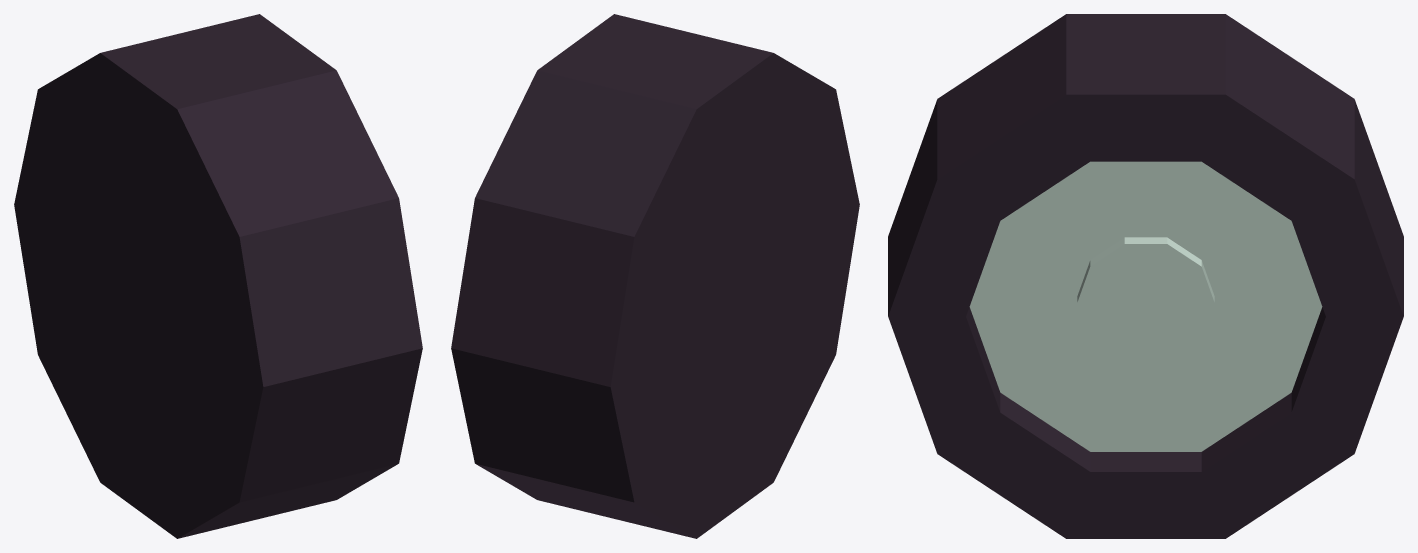
File: Wheel.fbx
The picture shows the model from 3 angles, left to right: view 1: azimuth 30°, elevation 25°; view 2: azimuth 150°, elevation 25°; view 3: azimuth 270°, elevation 25°; orthographic projection. The views are drawn at different scales.
Visible parts, largest first — view 1: Wheel; view 2: Wheel; view 3: Wheel.
Boxes of the visible parts, x1=… form: Wheel: x1=14, y1=14, x2=422, y2=538; Wheel: x1=451, y1=14, x2=859, y2=538; Wheel: x1=888, y1=14, x2=1403, y2=538.
Bounding box in the file's own units: 0.3732 × 0.9606 × 1.01.
